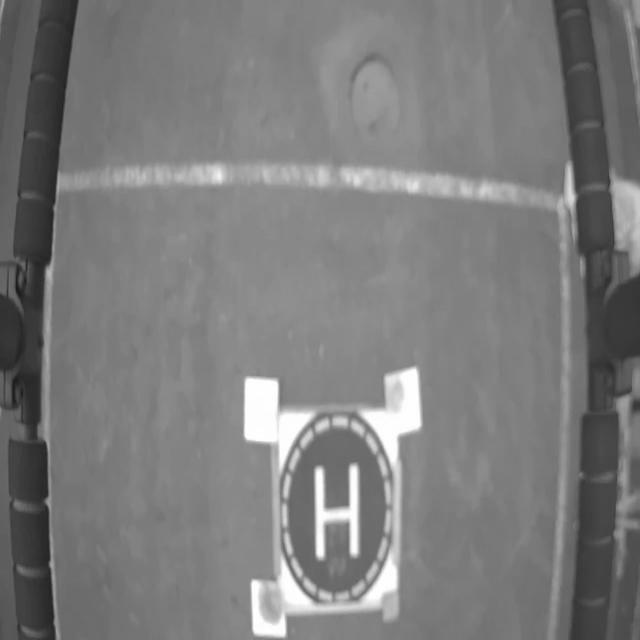Helipad: (315, 461, 360, 559)
